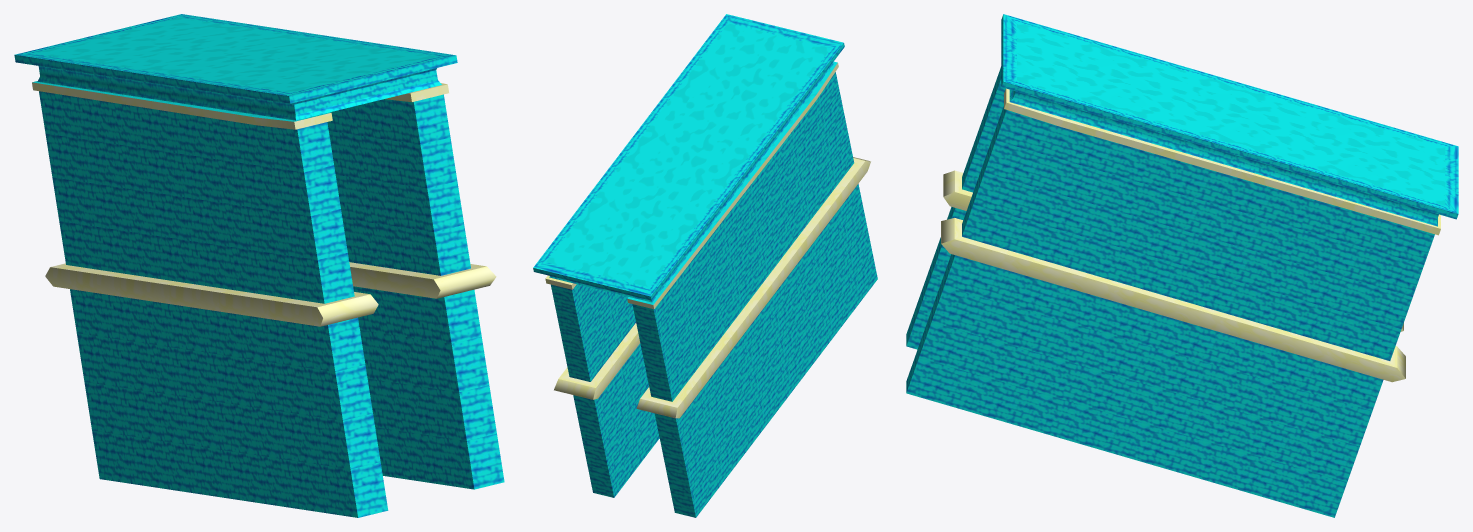
Rendered from SM_Piramide_Door_01.fbx.
3 views of the same model, side by side, from view 1: azimuth 30°, elevation 25°; view 2: azimuth 150°, elevation 25°; view 3: azimuth 270°, elevation 25° (orthographic). The views are drawn at different scales.
Visible parts, largest first — view 1: SM_Piramide_Door_01; view 2: SM_Piramide_Door_01; view 3: SM_Piramide_Door_01.
Boxes of the visible parts, box(x1,y1,x2,y2) form: SM_Piramide_Door_01: box(14, 14, 504, 517); SM_Piramide_Door_01: box(533, 14, 877, 517); SM_Piramide_Door_01: box(906, 14, 1458, 517).
Size of the model in its own units: 17.9 by 52.86 by 60.05.
Materials: 1 (1 with a texture image).
